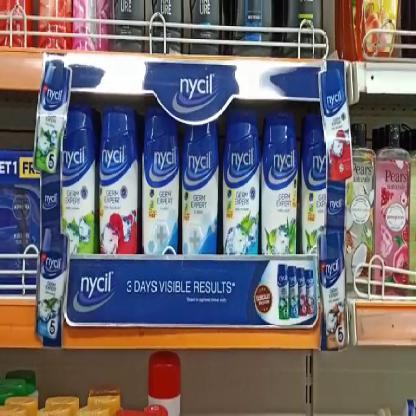Nycil Prickly Heat Powder: (225, 112, 259, 256), (263, 118, 297, 254), (183, 123, 218, 255), (300, 120, 327, 253)
